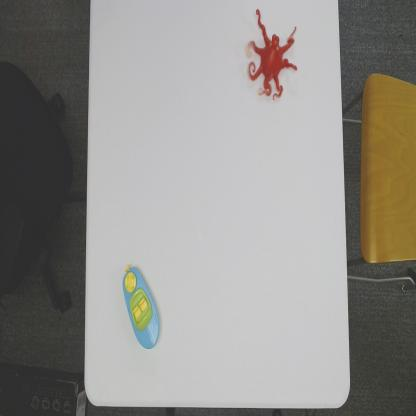Boat: (122, 259, 160, 351)
Octopus: (245, 9, 301, 100)
